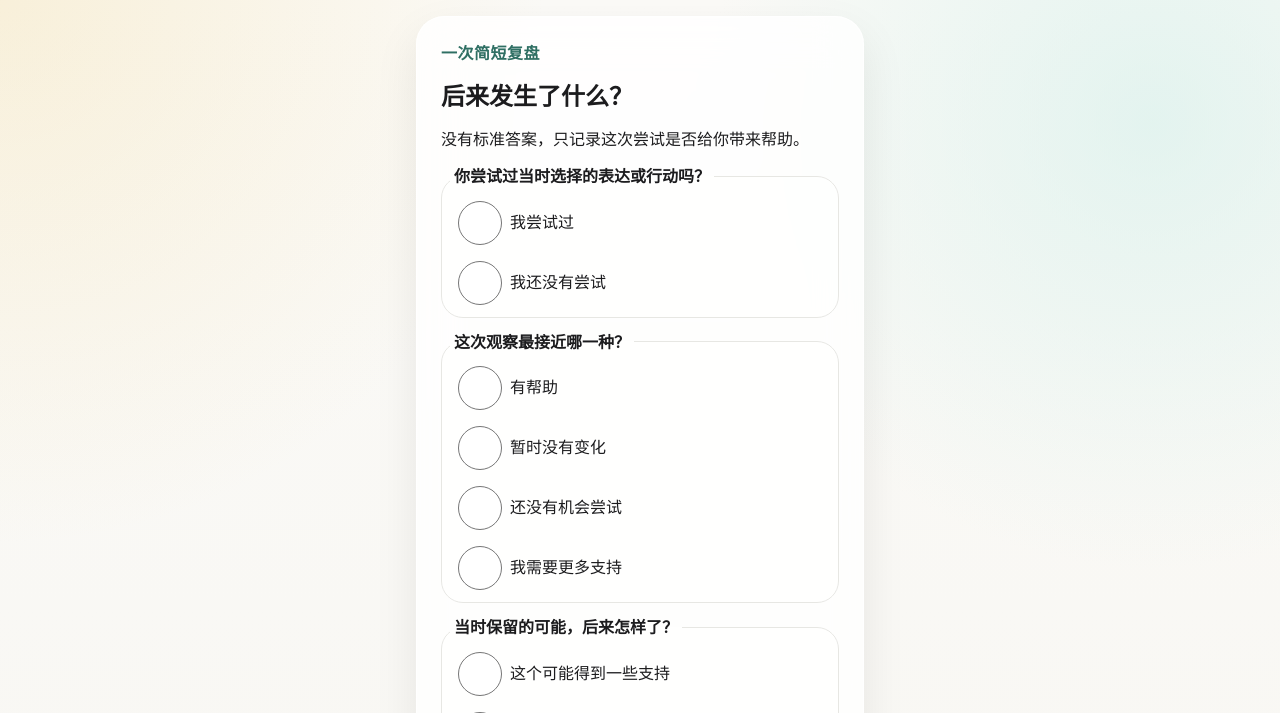
Test: FollowUpPage › offers support voluntarily only after an explicit support selection
The image size is (1280, 713).
Expected: the link "了解可选支持" is not shown
Click the radio button labelled "我需要更多支持": (480, 568) [458,546,502,590]
(page scrolled)
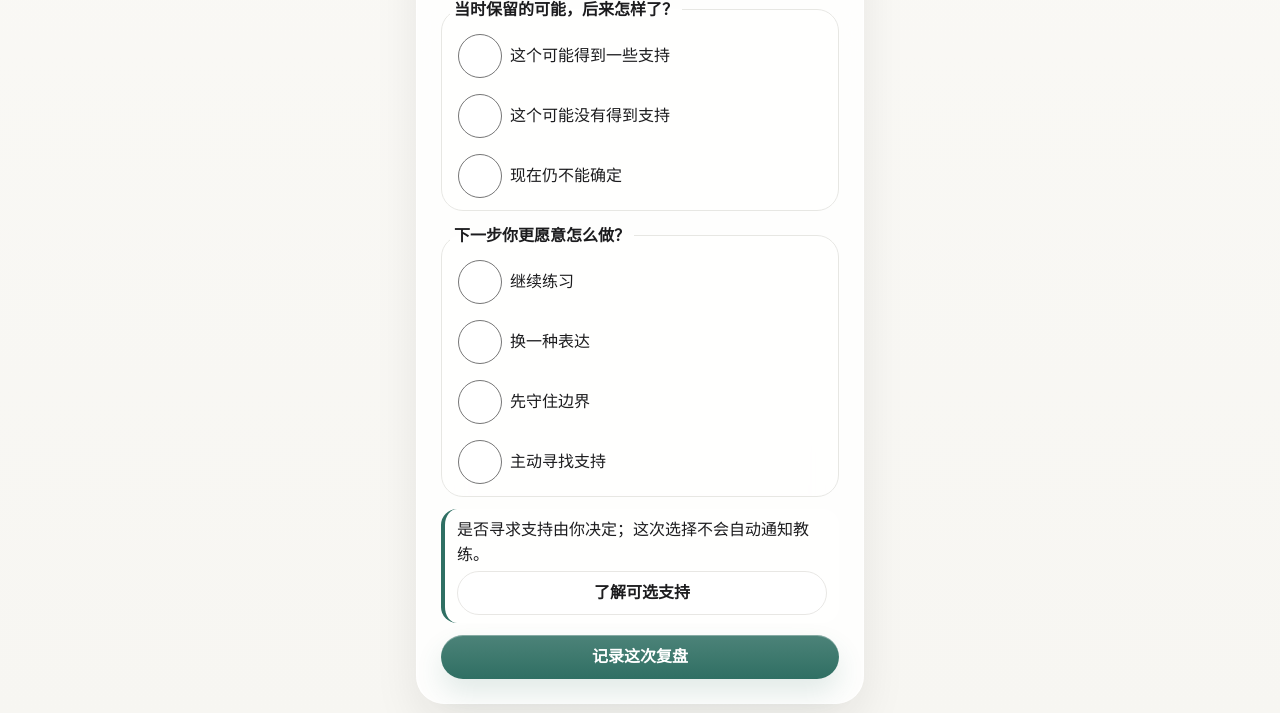
Expected: the text "是否寻求支持由你决定；这次选择不会自动通知教练。" is shown, [457,517,827,567]
